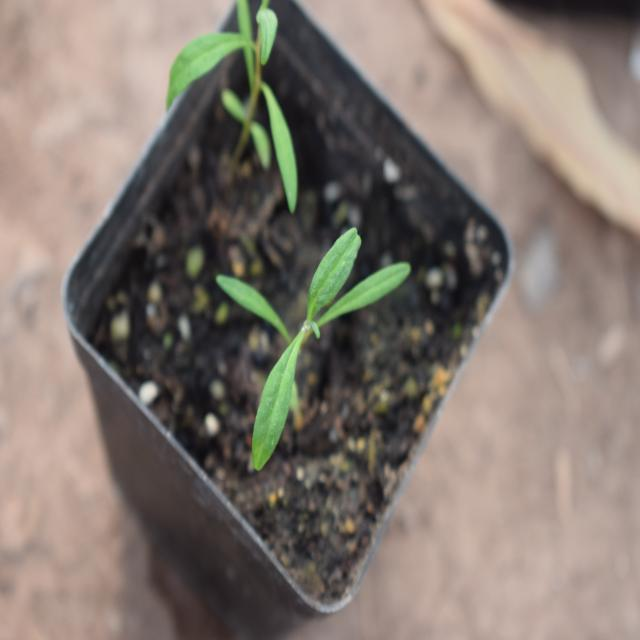white_smart_weed: (193, 198, 428, 471)
